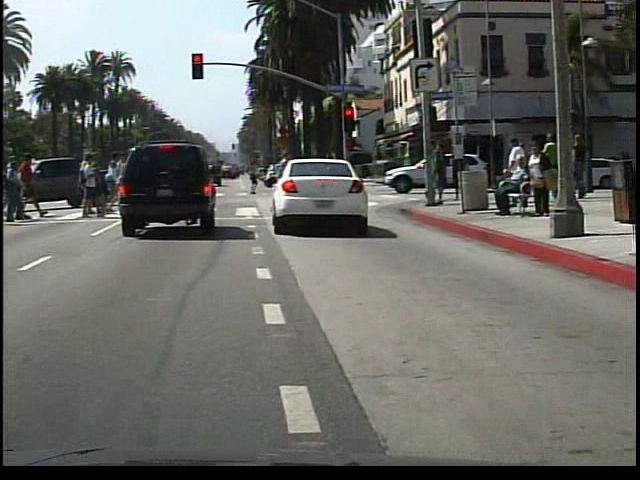person: (528, 140, 562, 223), (496, 154, 538, 215), (266, 146, 298, 215)
